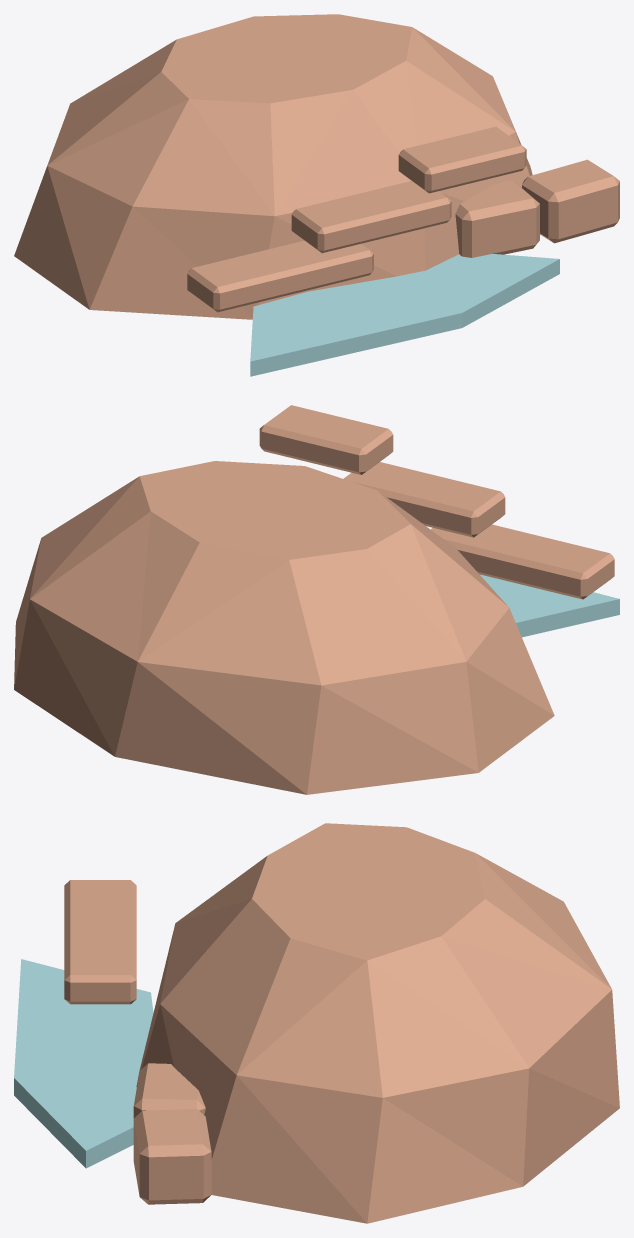
The model's file is world_clay_bank.fbx.
3 renders of one model, top to bottom at view 1: azimuth 30°, elevation 25°; view 2: azimuth 150°, elevation 25°; view 3: azimuth 270°, elevation 25°, orthographic. The views are drawn at different scales.
Parts seen in each view (by area): view 1: world_clay_bank_mesh; view 2: world_clay_bank_mesh; view 3: world_clay_bank_mesh.
Part boxes in pixels (x1,y1,x2,y2): world_clay_bank_mesh: (14,14,619,376); world_clay_bank_mesh: (14,405,619,794); world_clay_bank_mesh: (14,823,619,1223).
Bounding box in the file's own units: 0.8948 × 0.3 × 0.8403.
